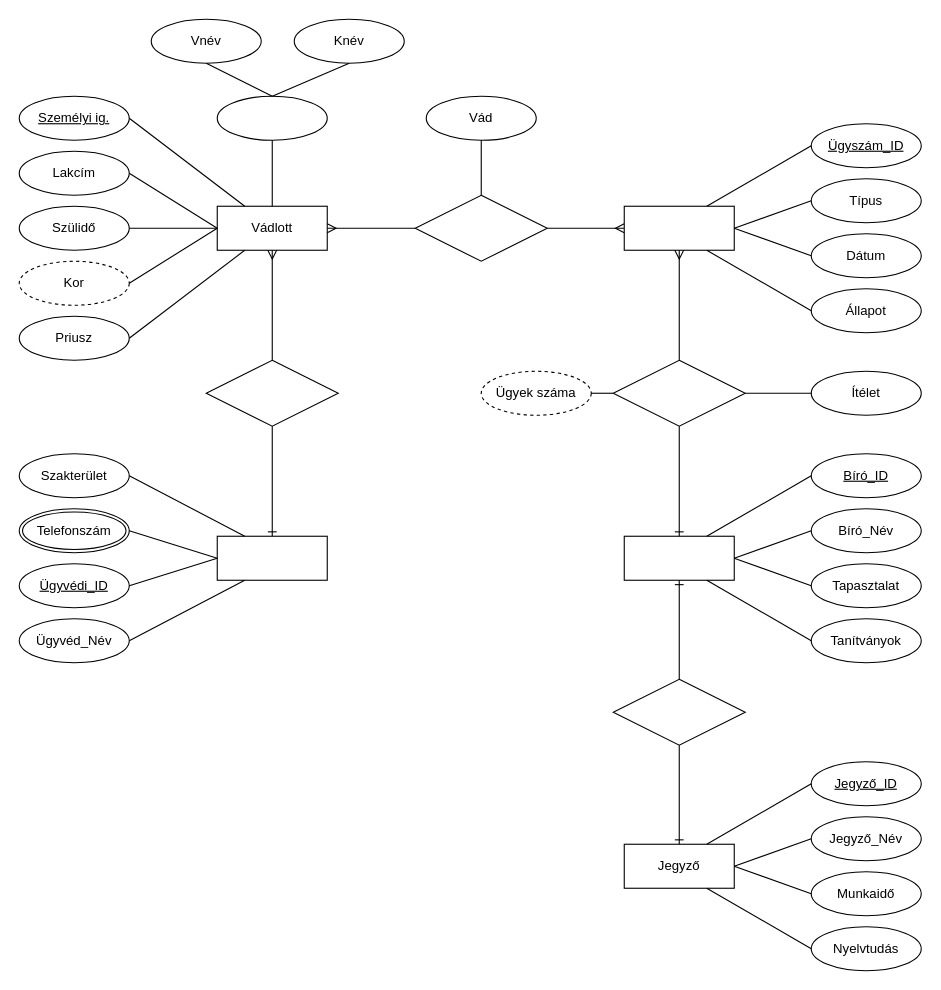
Image size: 941x990. Some labels were removed from this diagram. The shapes that lost their labels are listed below. From the top down, each one's box as (x1, y1, x2, y2) in pixels, then its label:
(216, 95, 327, 140): ( Név )
(414, 194, 547, 261): Bűnös-e
(623, 205, 734, 250): Ügy
(205, 359, 338, 426): Védi
(612, 359, 745, 426): ítéletet hoz
(216, 535, 327, 580): Ügyvéd
(623, 535, 734, 580): Bíró
(612, 678, 745, 745): Rögzítés
